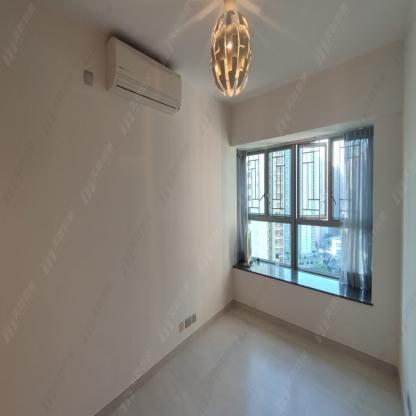AC: (105, 35, 182, 115)
Windowsill: (229, 118, 374, 306)
